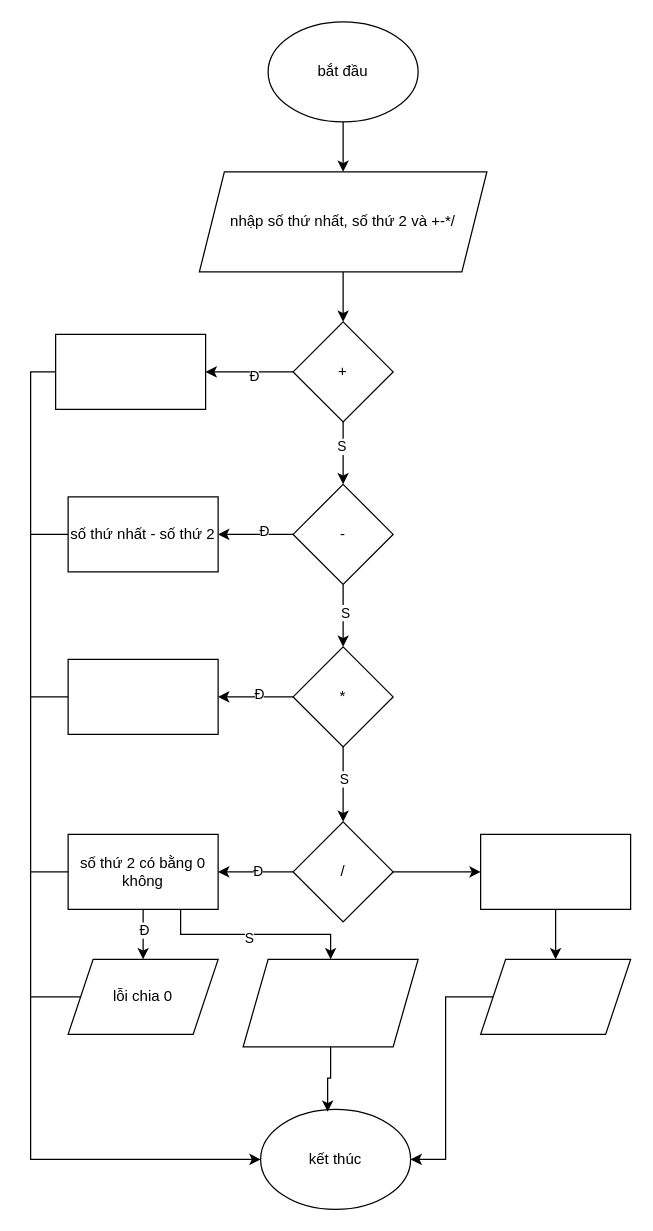
Image size: 653x1231. Some labels were removed from this diagram. Here are the shapes that lost their labels. From the top down, the box of each, then its label:
(54, 333, 206, 409): số thứ nhất + số thứ 2
(67, 658, 218, 734): số thứ nhất * số thứ 2
(479, 833, 631, 909): không phụ thuộc vào +-*/
(242, 958, 418, 1047): số thứ nhất / số thứ 2
(479, 958, 631, 1034): không hợp lệ
